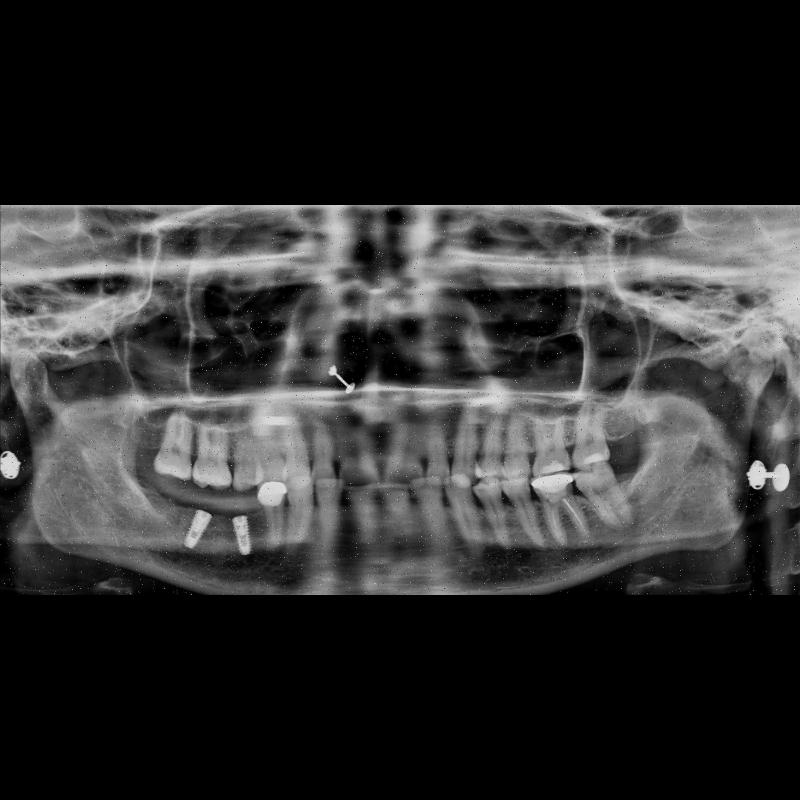osstem: (227, 515, 255, 561), (183, 510, 213, 552)
